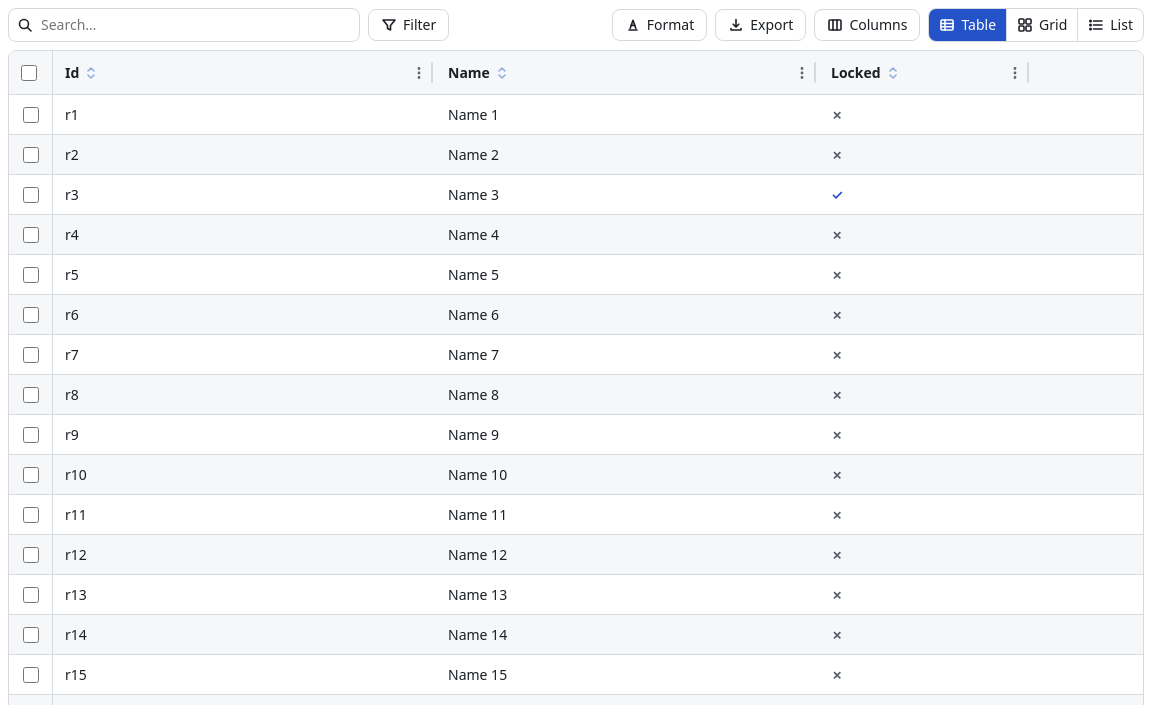
Scenario: US5: select records and act on them › shows the indeterminate header state and the selected count
The image size is (1152, 705).
Click the 1st checkbox named "Select row".
click(31, 114)  # box [23,106,39,122]
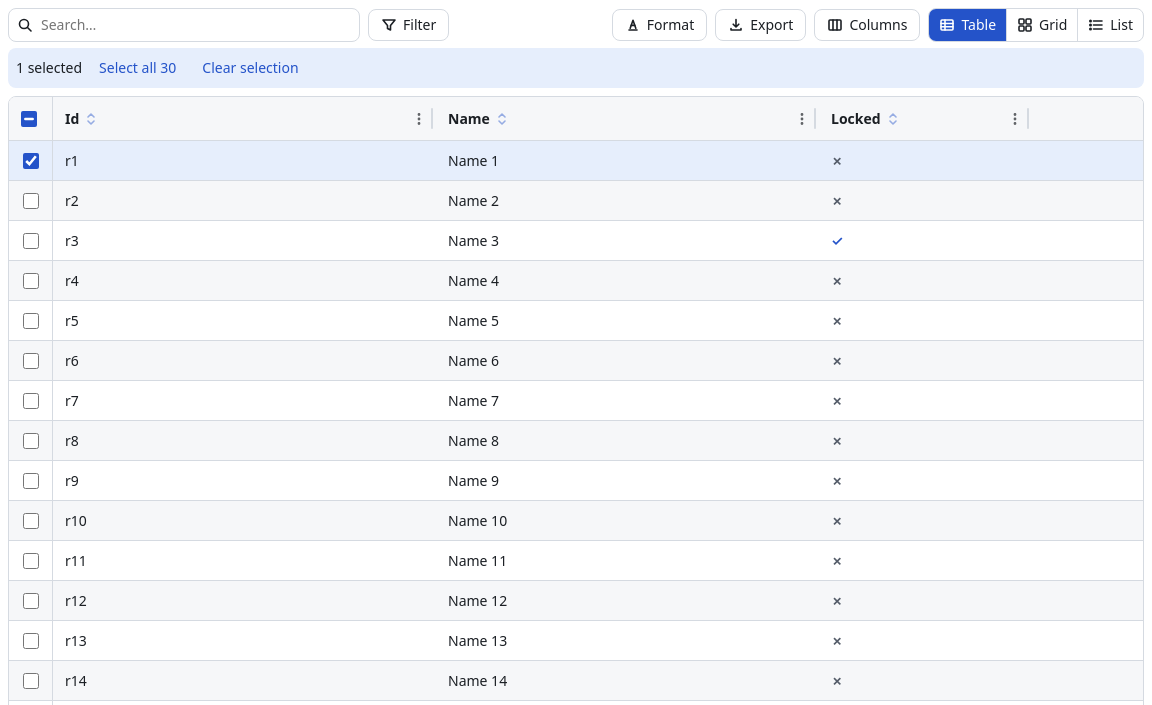
Check: the text "1 selected" is shown, box [16,58,82,78]
Click the button "Select all 30".
click(138, 68)  # box [90,52,185,84]
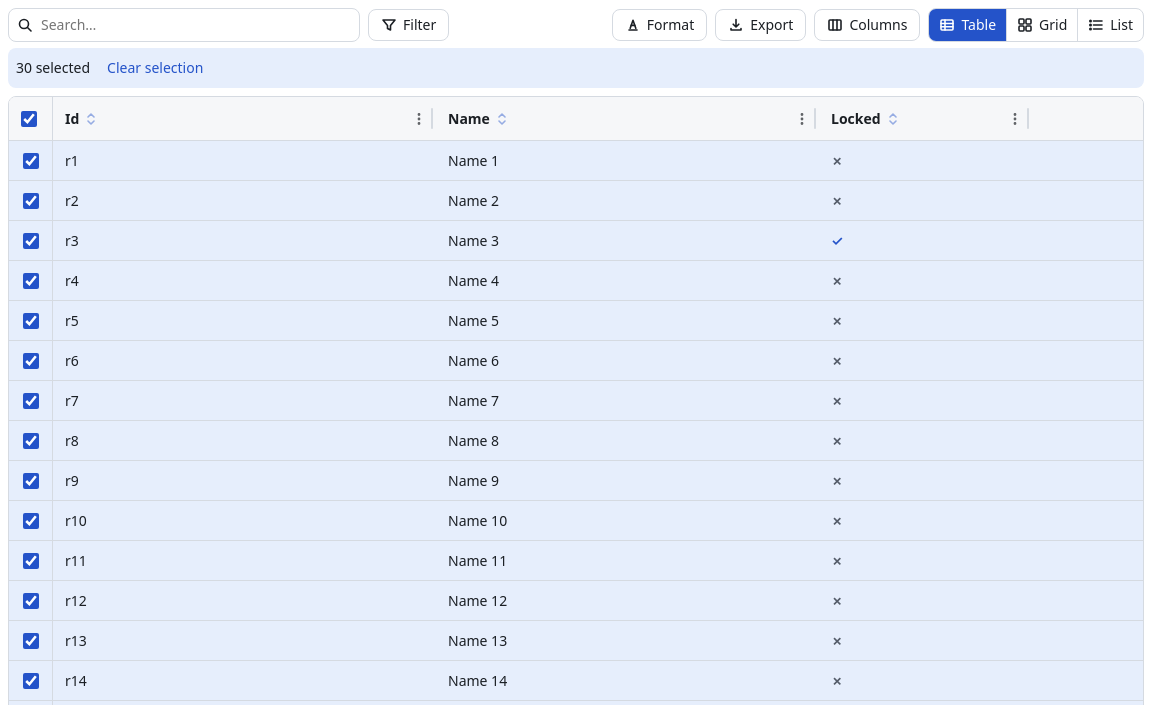
Check: the text "30 selected" is shown, box [16,58,90,78]
Click the button "Clear selection".
click(155, 68)  # box [98,52,212,84]
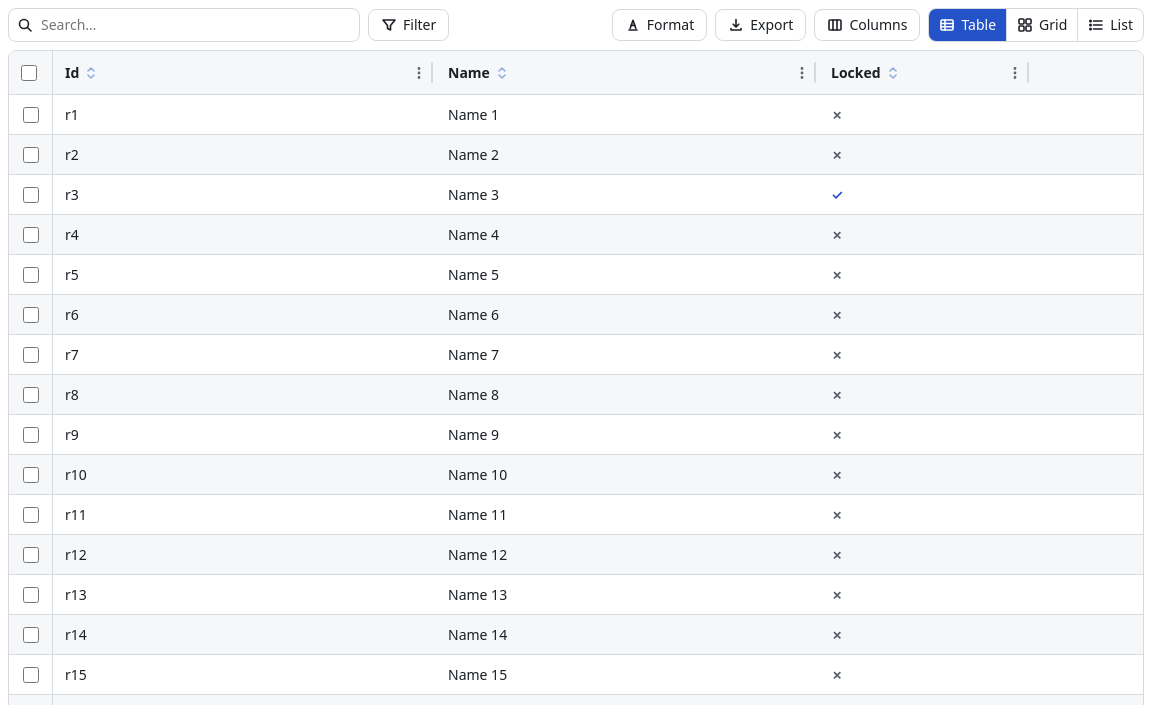
Check: the text "selected" is gone
